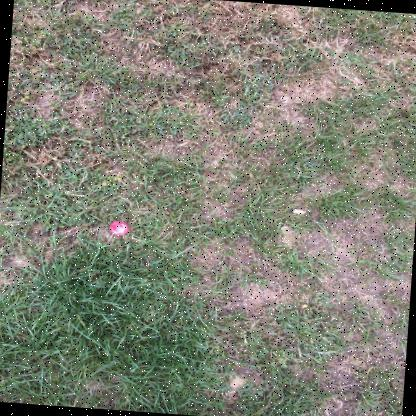Metal bottle cap: (110, 221, 131, 236)
